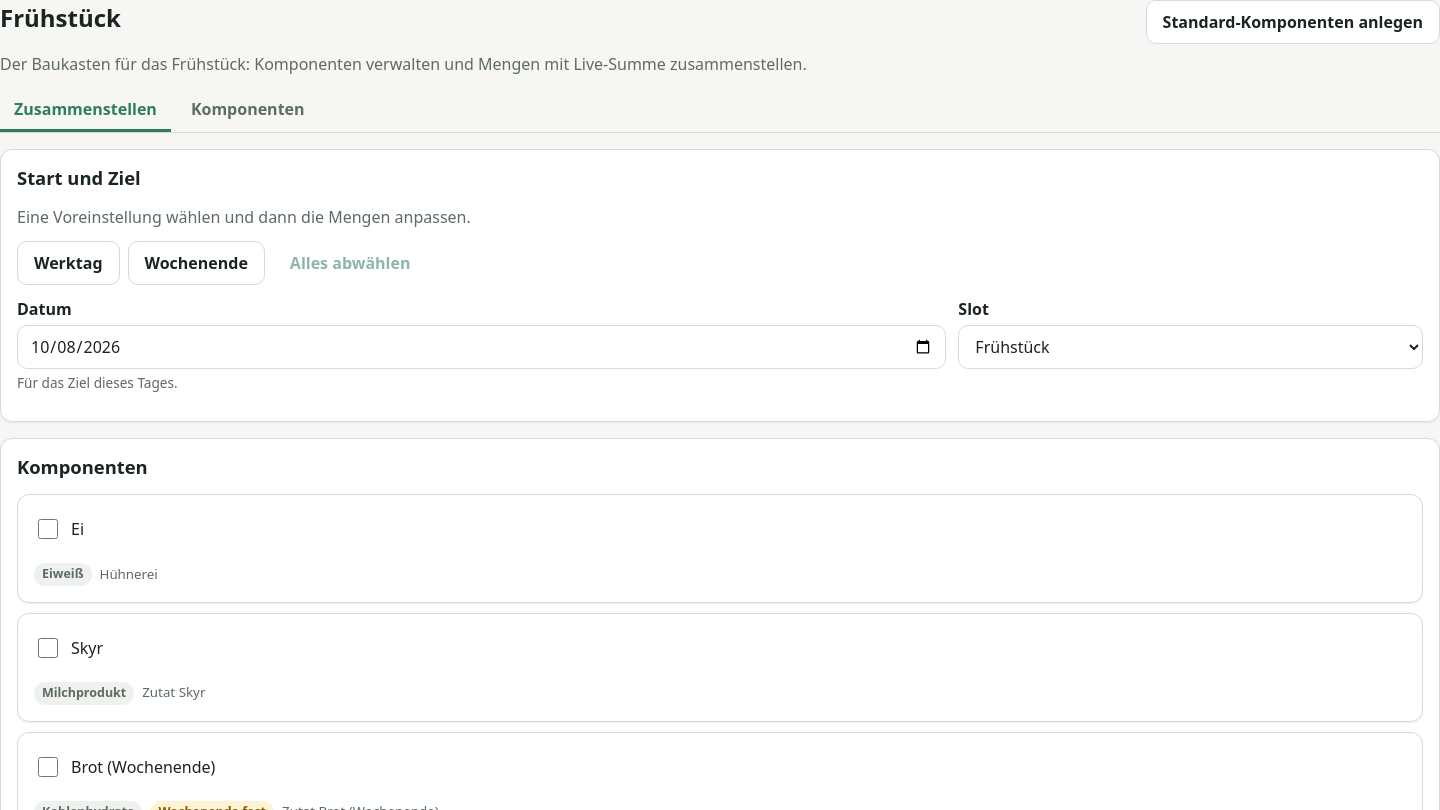
Scenario: Frühstück: Rechner › rechnet bei Bewegung des Reglers neu und begrenzt Eingaben auf die Spanne
Click the checkbox labelled "Skyr".
click(48, 648)  # box [38,638,58,658]
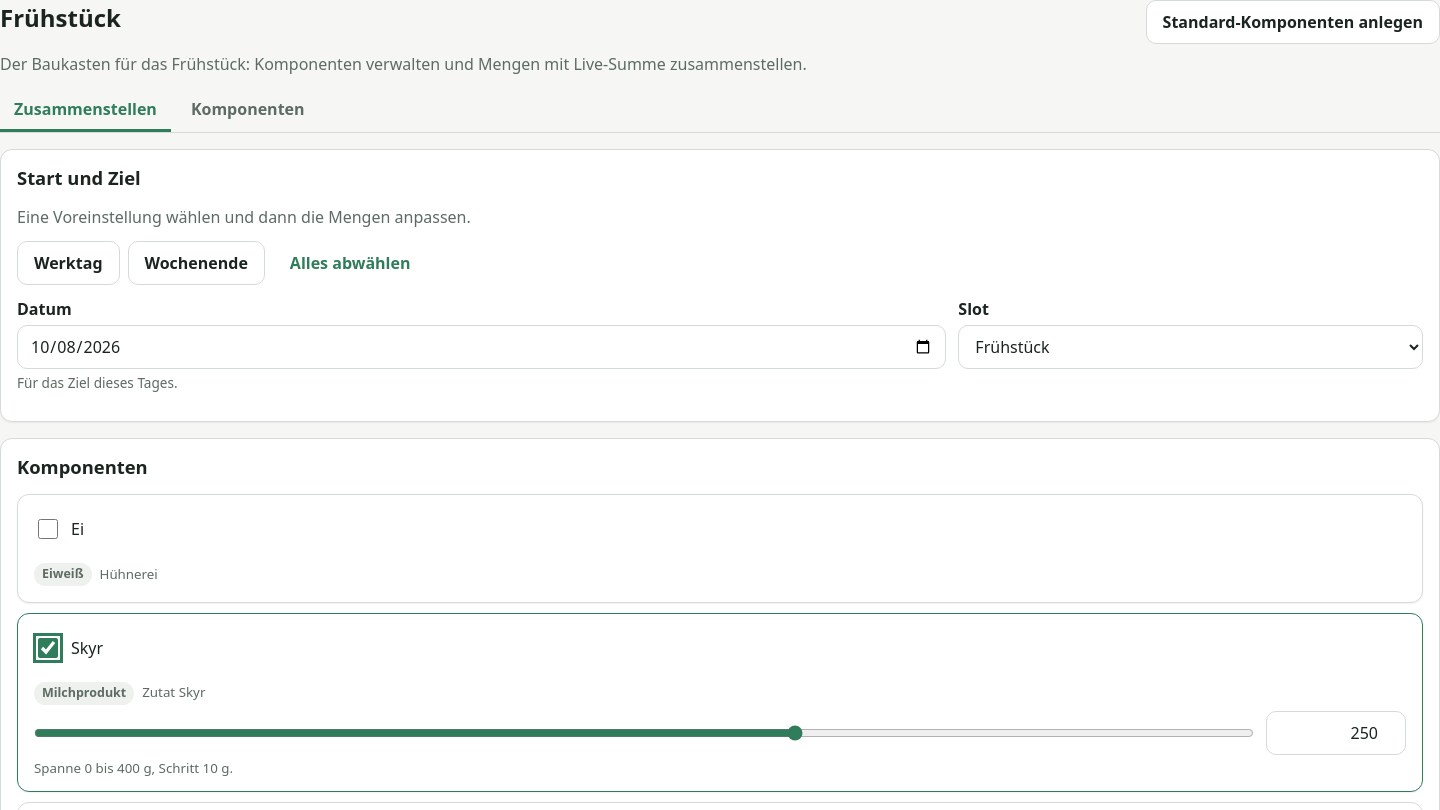
Expected: the text "Spanne 0 bis 400 g, Schritt 10 g." is shown, [34,759,233,777]
Set the slider named "Menge Skyr (Regler)" to "120" at (403, 733), box [34,711,1254,755]
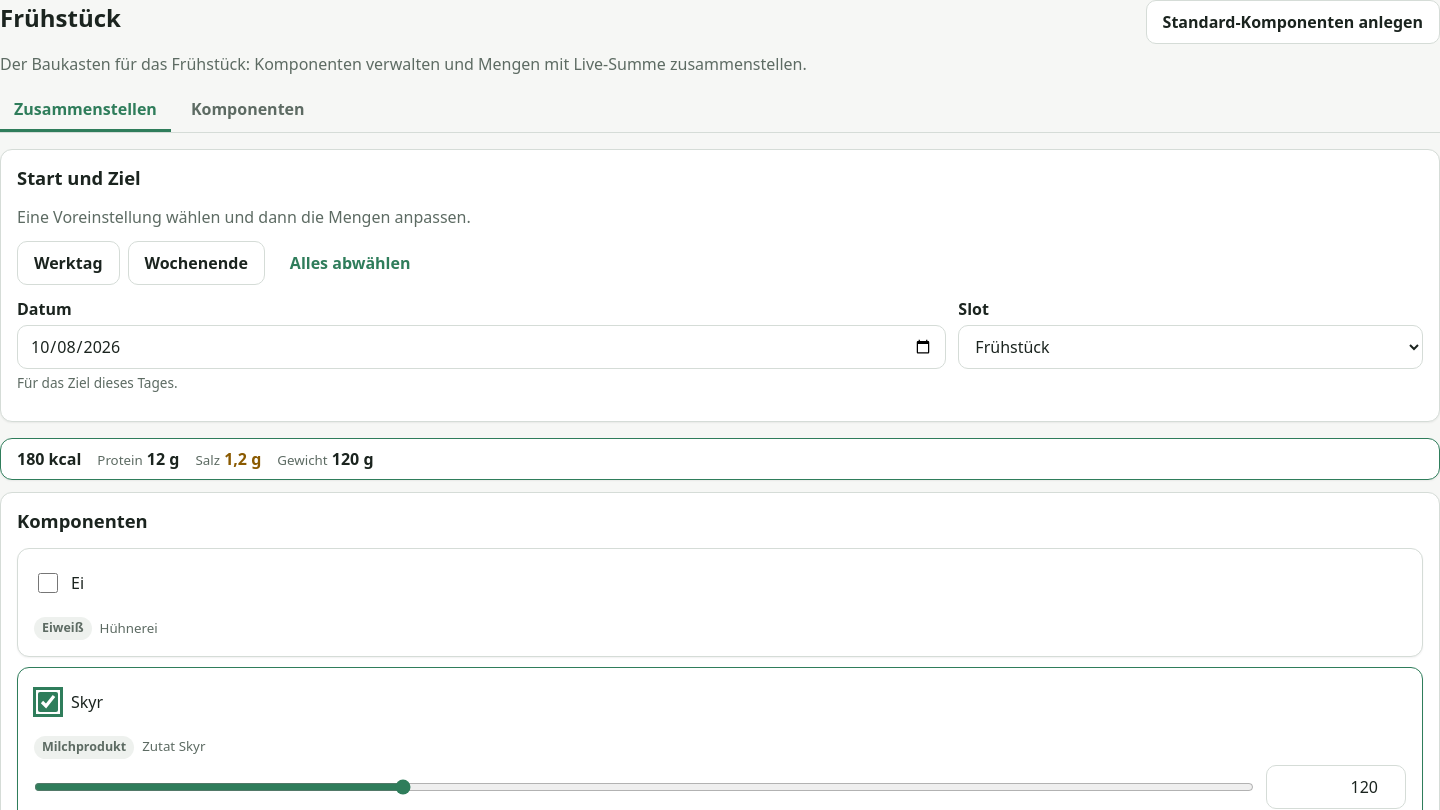
Expected: the number field named "Menge Skyr in Gramm" holds "120"
Replace the text in the number field named "Menge Skyr in Gramm" with "900" at (1336, 787), box [1266,765,1406,809]
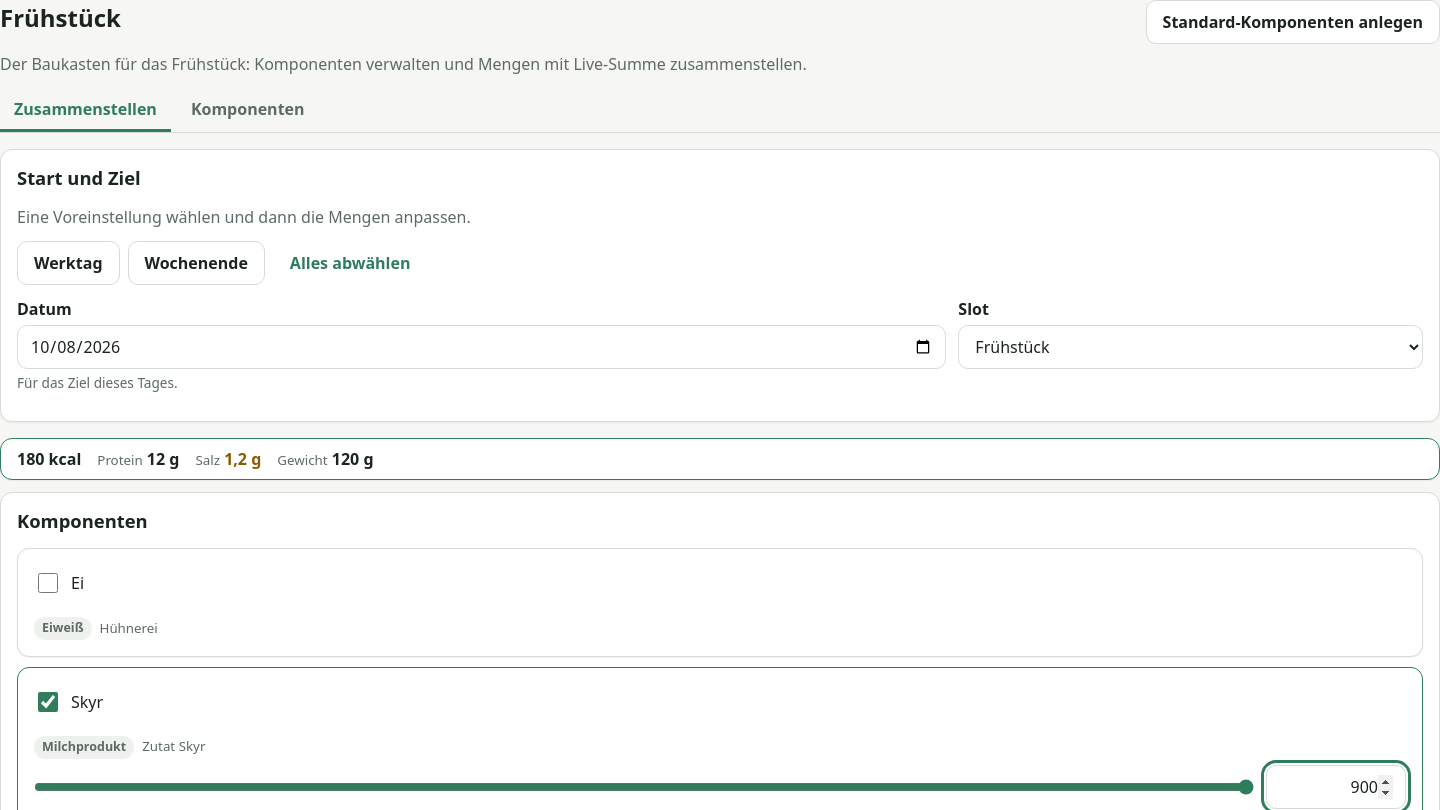
Press Tab
(page scrolled)
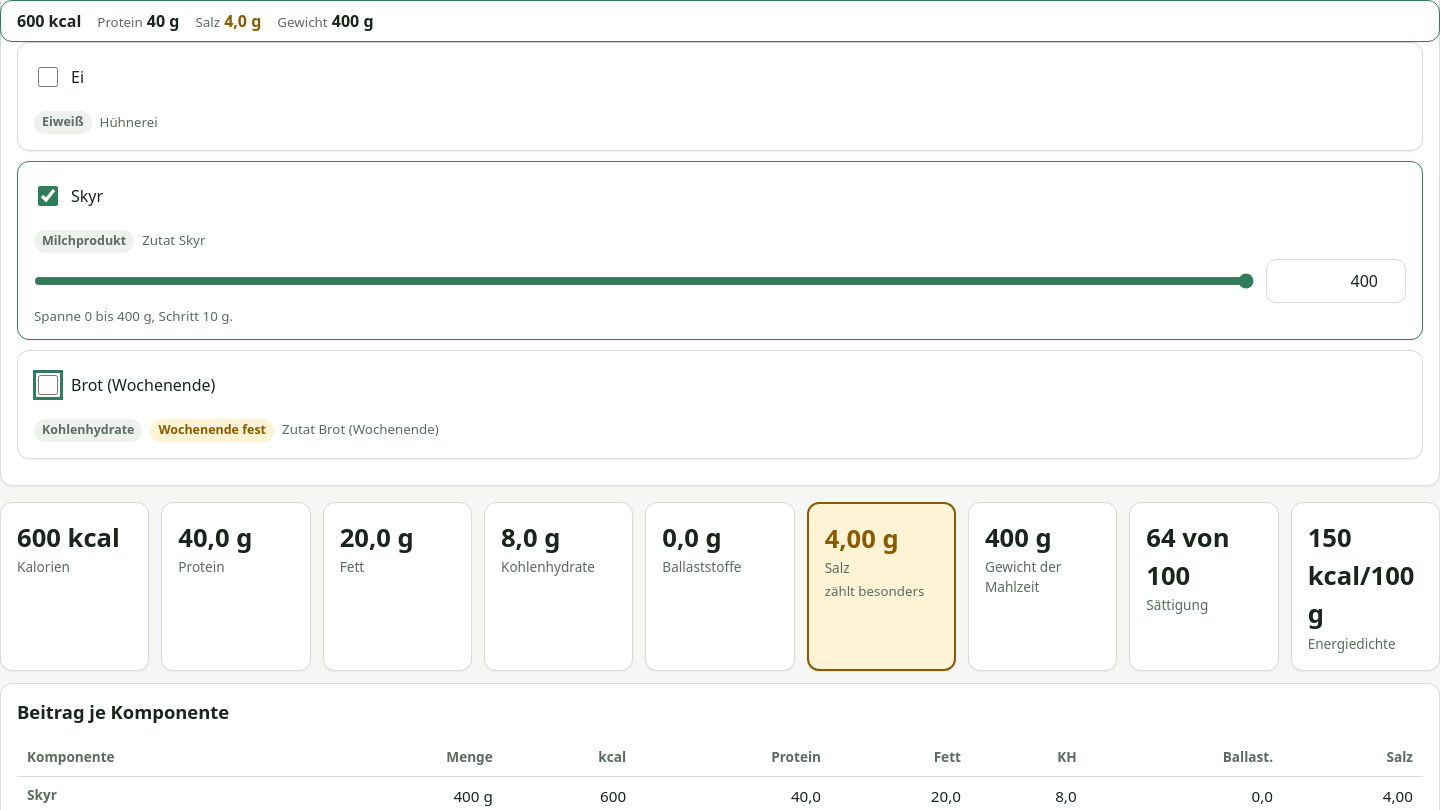
Expected: the number field named "Menge Skyr in Gramm" holds "400", [1266,259,1406,303]
